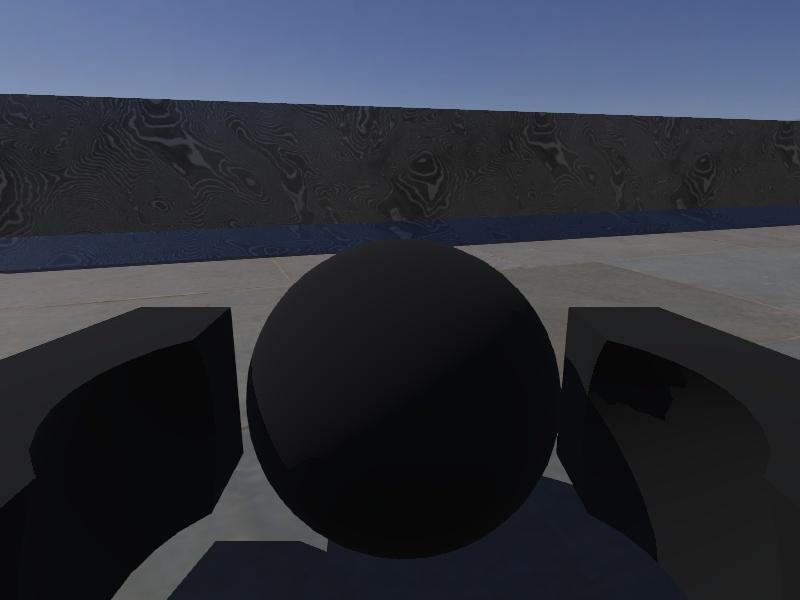black ball: (245, 236, 562, 562)
